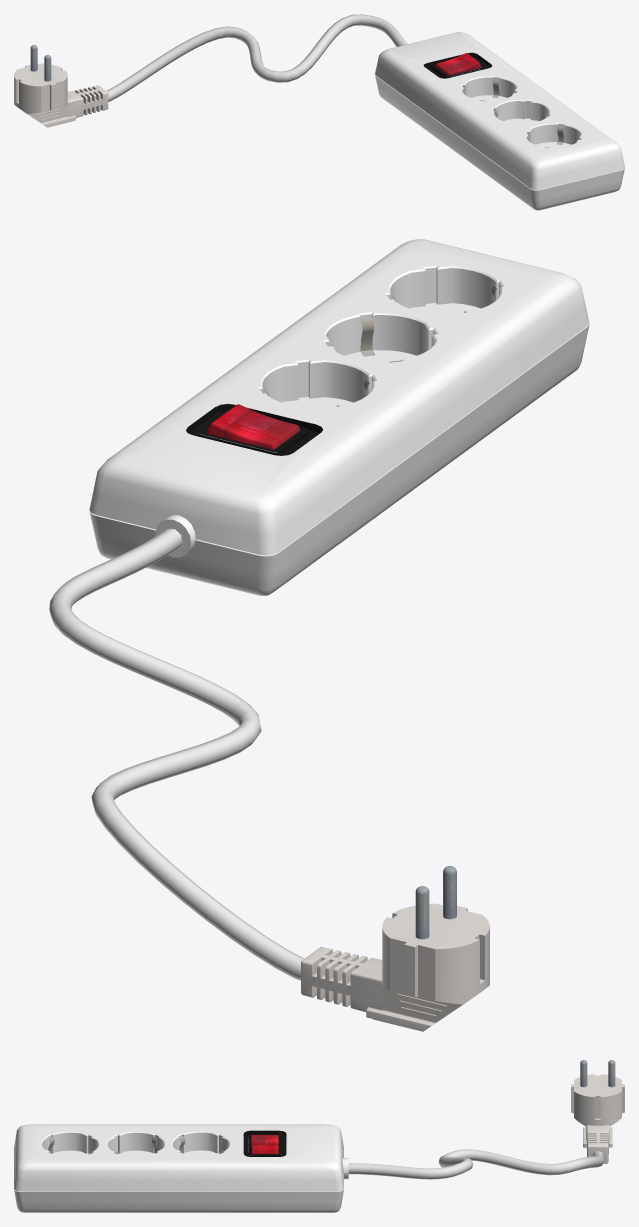
File: Sockets.fbx
3 views of the same model, one above another, from view 1: azimuth 30°, elevation 25°; view 2: azimuth 150°, elevation 25°; view 3: azimuth 270°, elevation 25° (orthographic). The views are drawn at different scales.
Visible parts, largest first — view 1: Cube.001, BezierCurve, Adapter; view 2: Cube.001, BezierCurve, Adapter; view 3: Cube.001, Adapter, BezierCurve, Cube.000.
Boxes of the visible parts, x1,y1,x2,y2 form: Cube.001: [375, 32, 624, 210]; BezierCurve: [107, 14, 407, 101]; Adapter: [14, 45, 108, 127]; Cube.001: [89, 239, 589, 595]; BezierCurve: [49, 528, 304, 980]; Adapter: [301, 866, 489, 1031]; Cube.001: [14, 1124, 348, 1212]; Adapter: [571, 1060, 624, 1163]; BezierCurve: [348, 1149, 603, 1179]; Cube.000: [48, 1136, 222, 1154].
Size of the model in its own units: 665 by 233 by 1065.
Materials: 5 (4 with a texture image).
